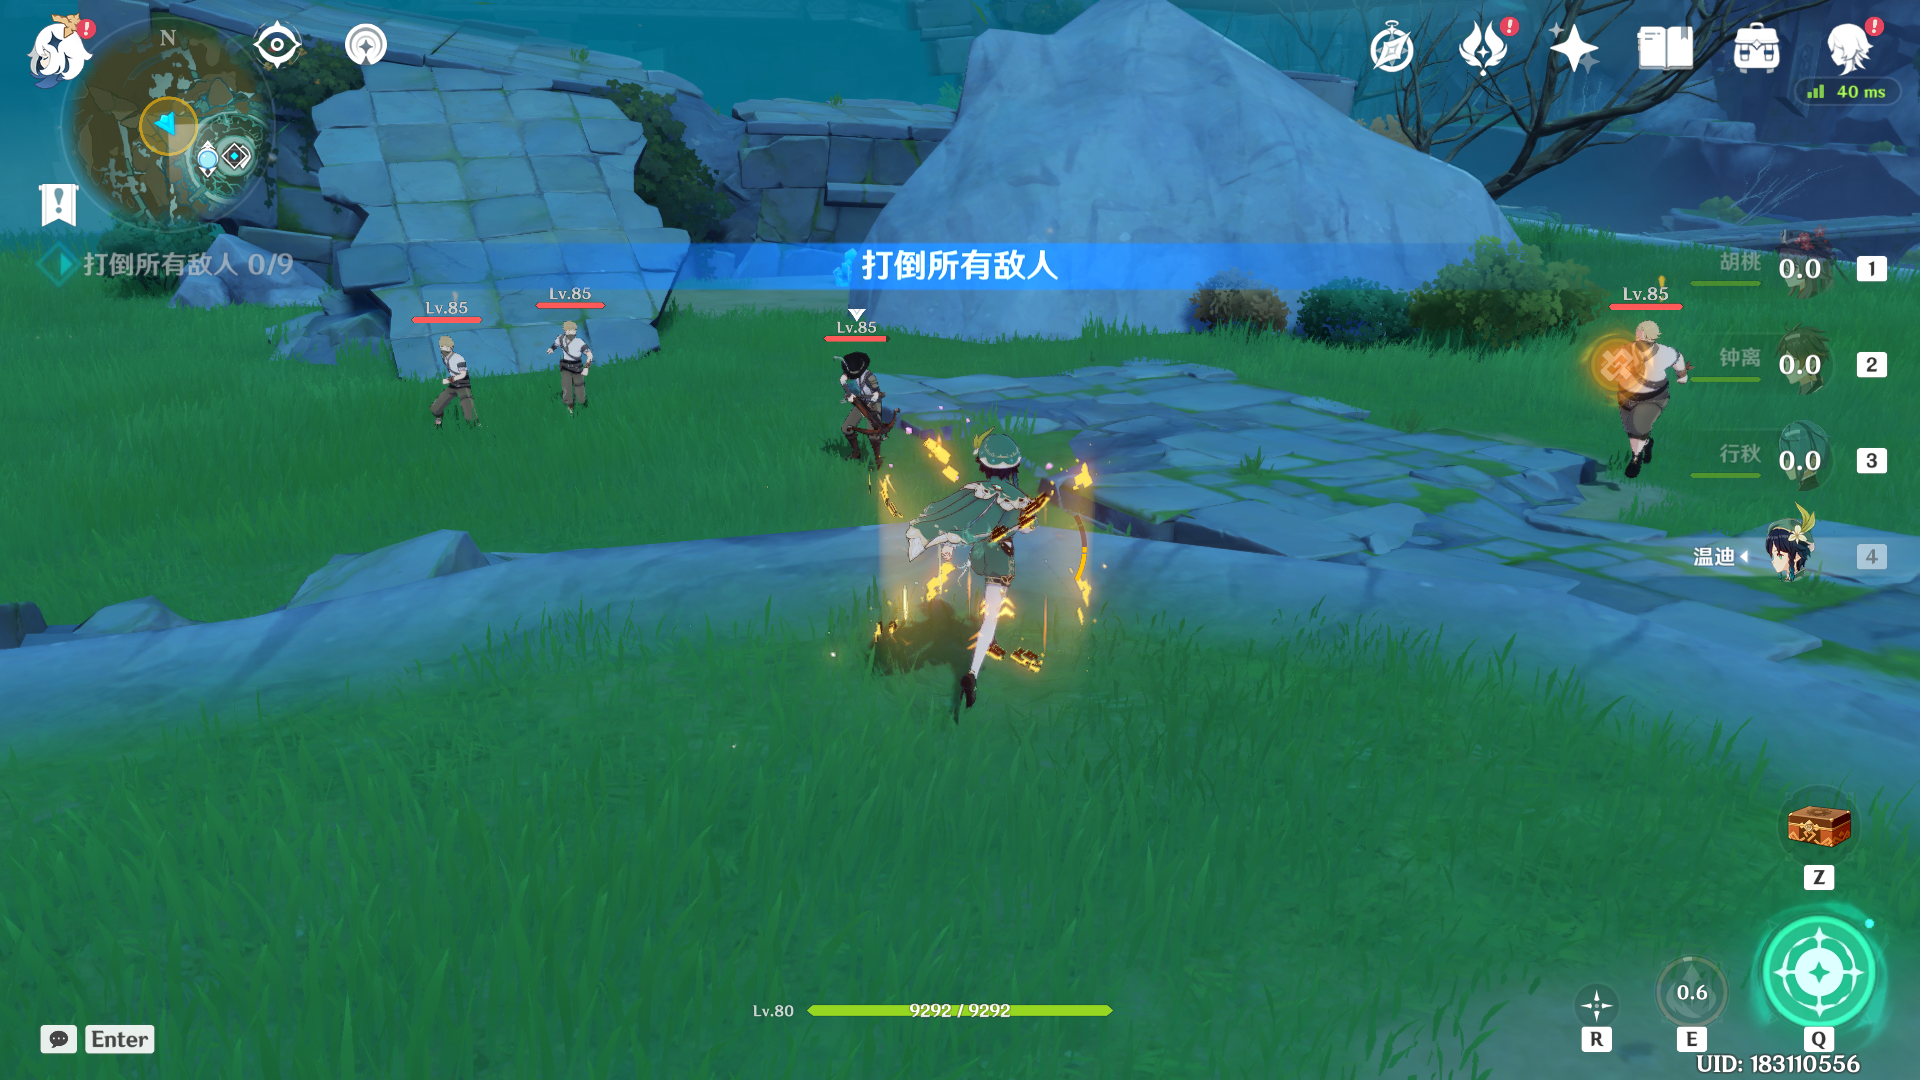character: (915, 396, 1116, 781)
robber: (1557, 291, 1709, 520), (785, 345, 911, 471), (520, 298, 633, 417), (409, 324, 505, 427)
